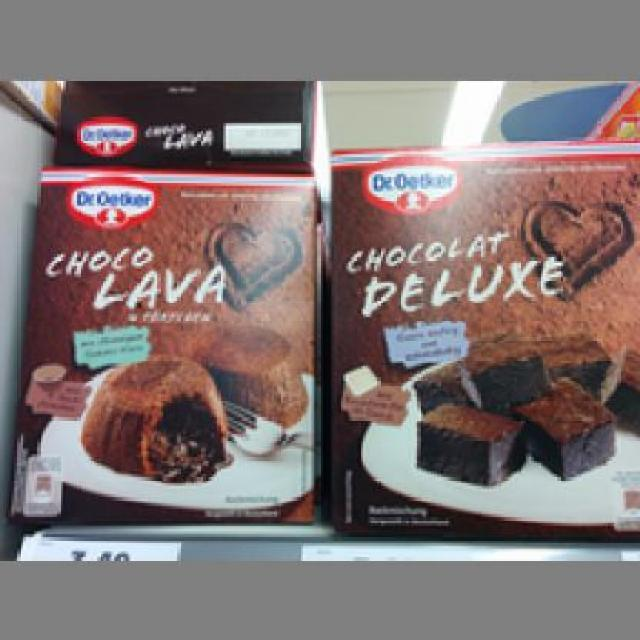Cake: (323, 140, 637, 540), (9, 148, 320, 532)
